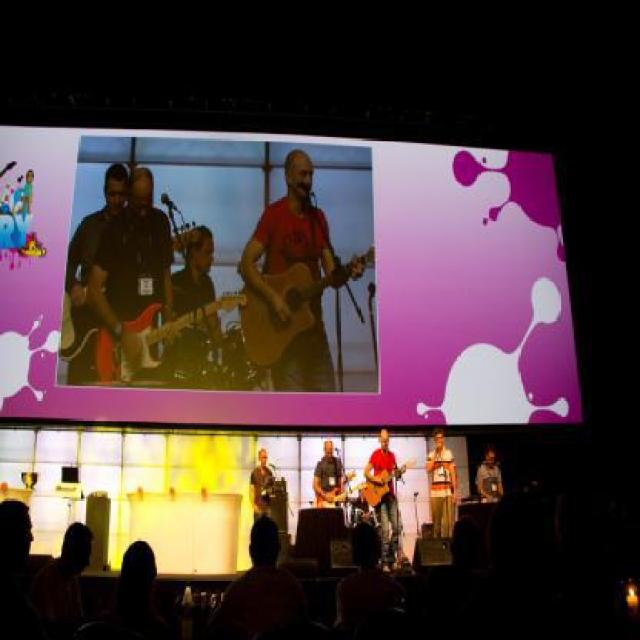Person: (237, 146, 366, 392), (64, 161, 128, 384), (159, 216, 232, 390), (208, 512, 280, 639), (85, 537, 170, 638), (38, 517, 100, 638), (362, 427, 406, 571), (254, 556, 323, 638), (0, 491, 37, 638), (424, 428, 459, 542), (326, 575, 377, 639), (310, 436, 350, 506), (246, 444, 276, 521), (474, 446, 504, 506)
